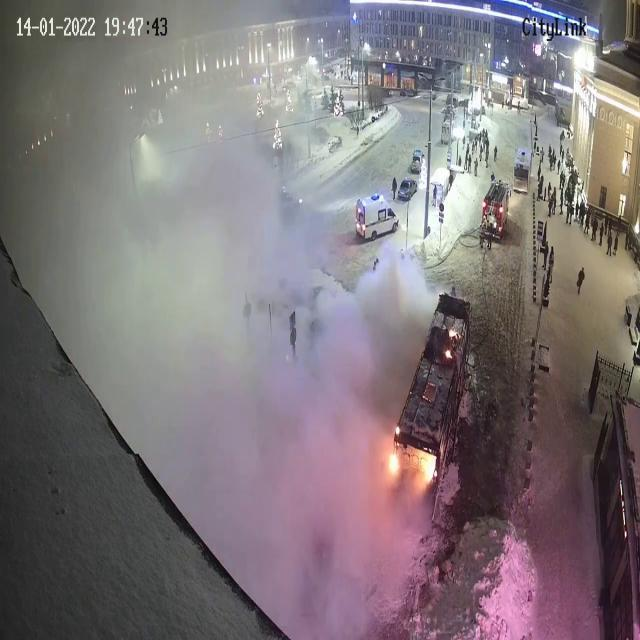Fire: (385, 438, 438, 490)
Smoke: (30, 79, 434, 618)
